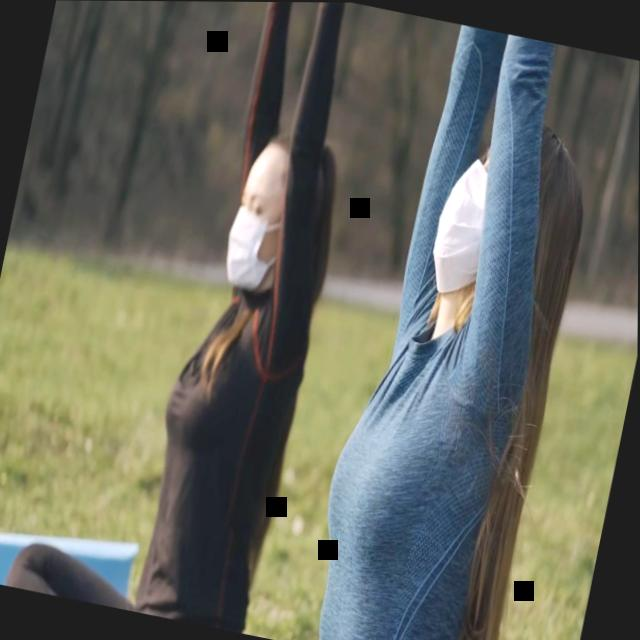Mask: (426, 138, 504, 298), (220, 145, 298, 293)
